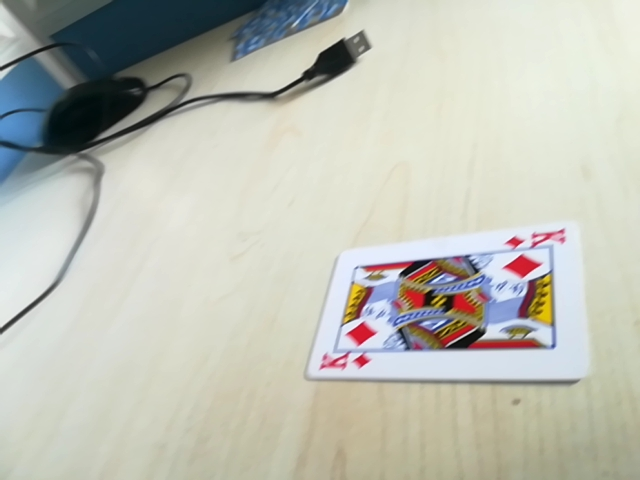fk k: (316, 348, 374, 376), (507, 227, 566, 252)
